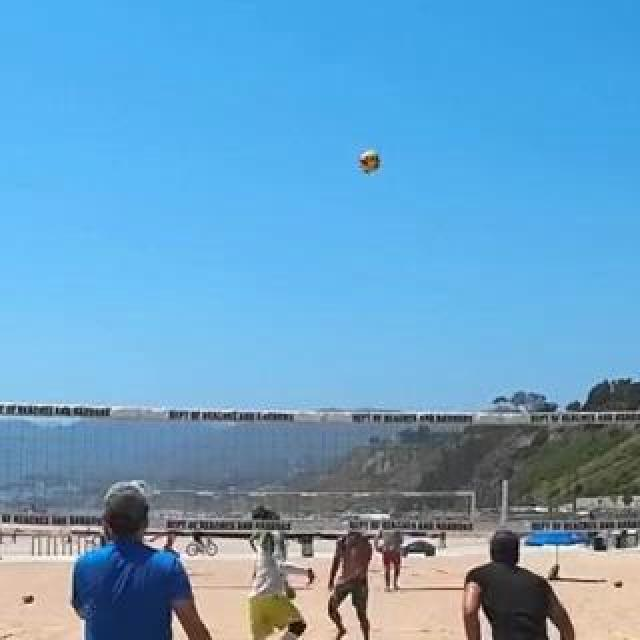volleyball: (360, 152, 380, 172), (23, 592, 35, 606), (613, 578, 623, 588)
